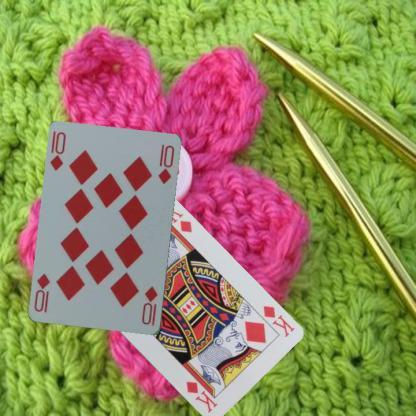10d: (140, 284, 160, 328), (48, 128, 68, 172)
Kd: (260, 303, 296, 338)
